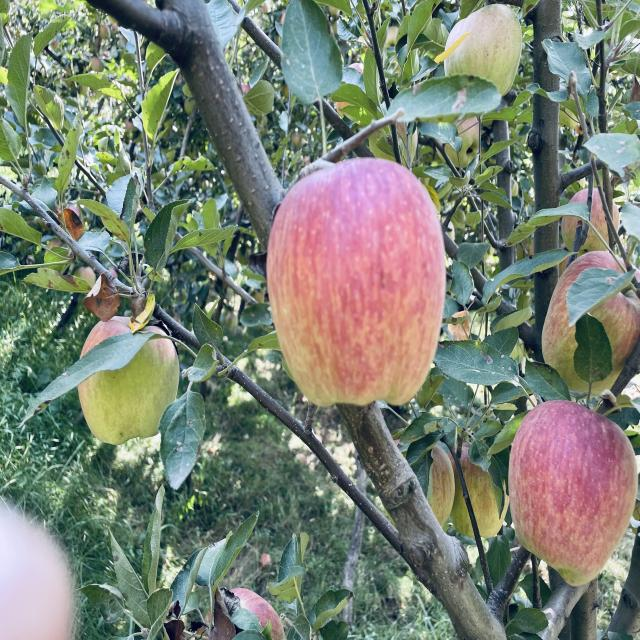Apple: (266, 158, 445, 407), (509, 400, 638, 585), (541, 250, 620, 393), (78, 338, 180, 445), (444, 3, 522, 95), (591, 292, 640, 397), (81, 315, 130, 357)
